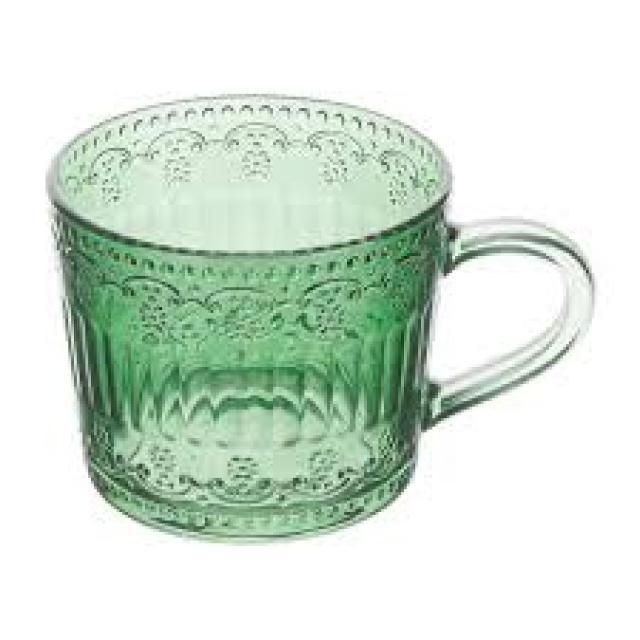taza: (43, 93, 596, 543)
